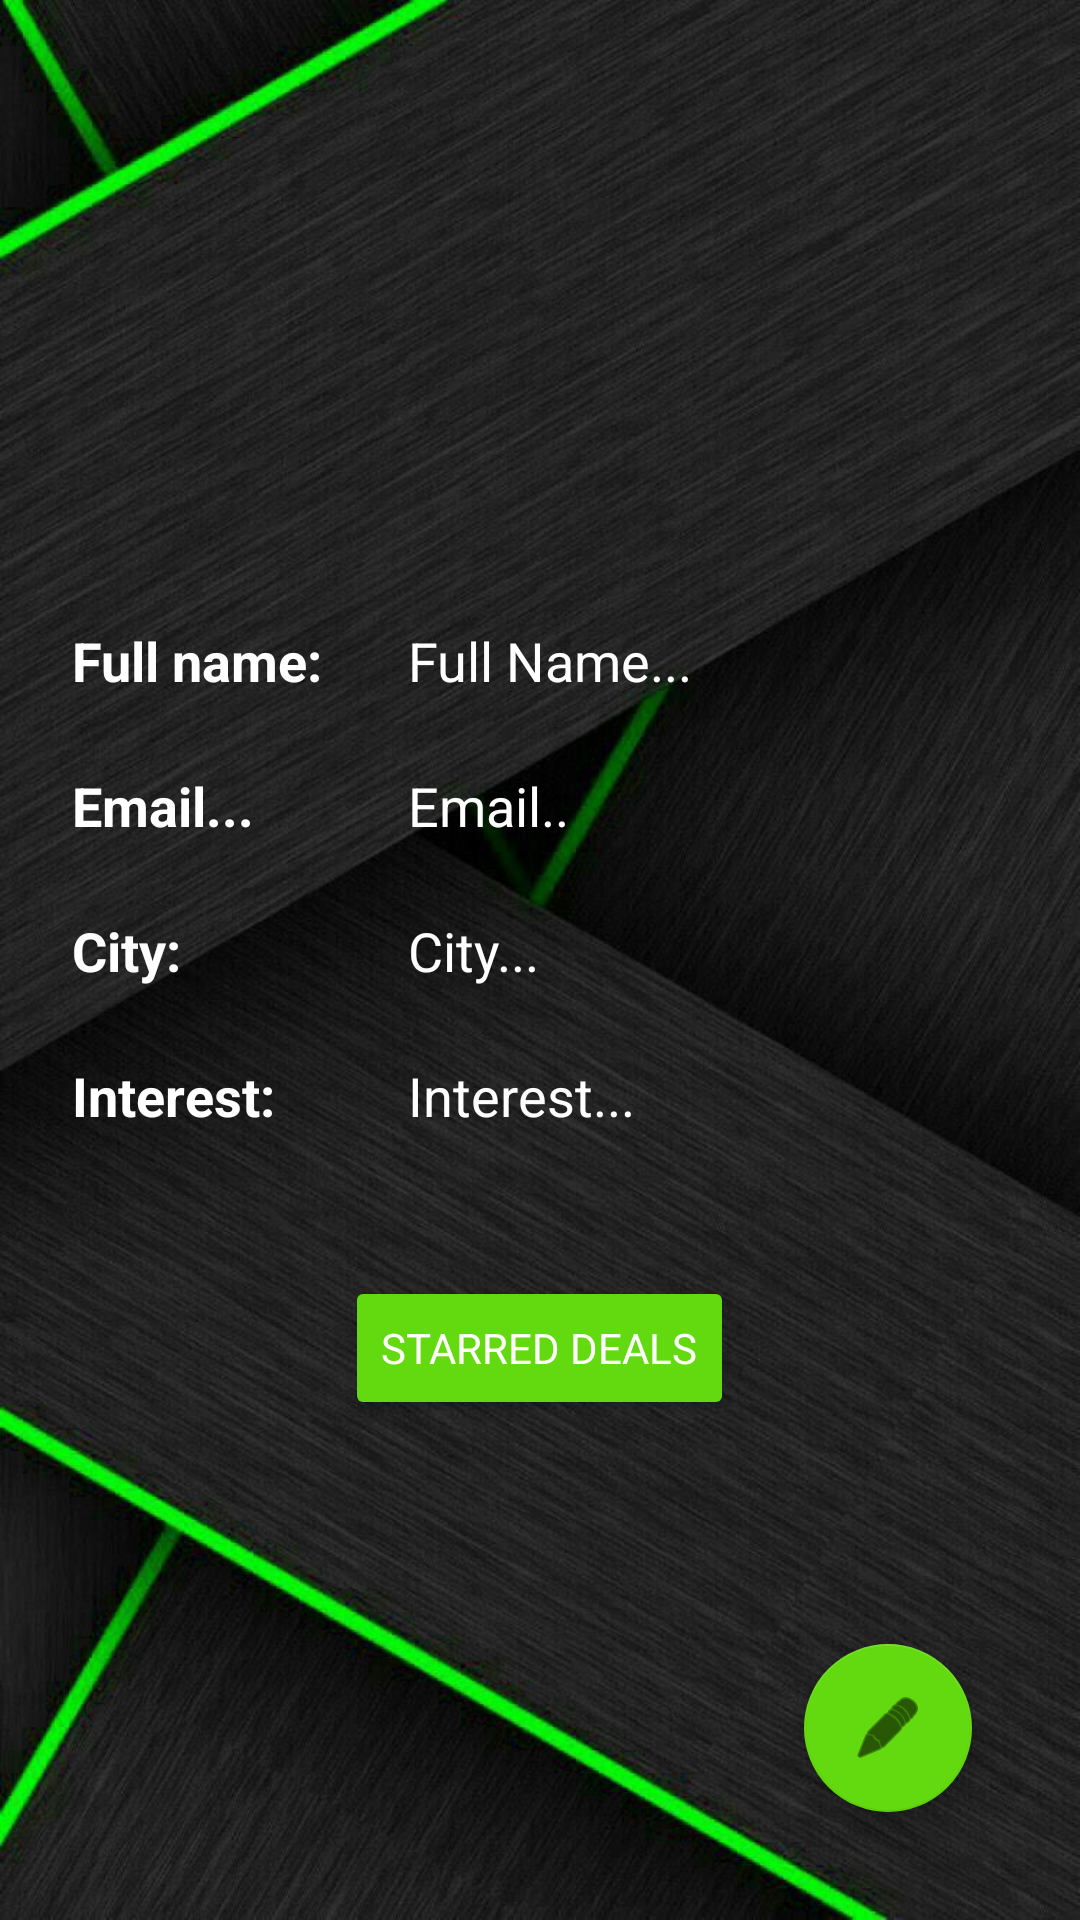

Icon click points for this 1080px x 1920px phone screenshot, format (x,y):
edit: (888,1728)
